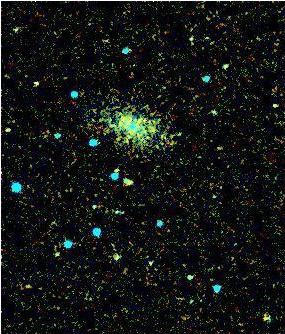star: (104, 155, 134, 185)
